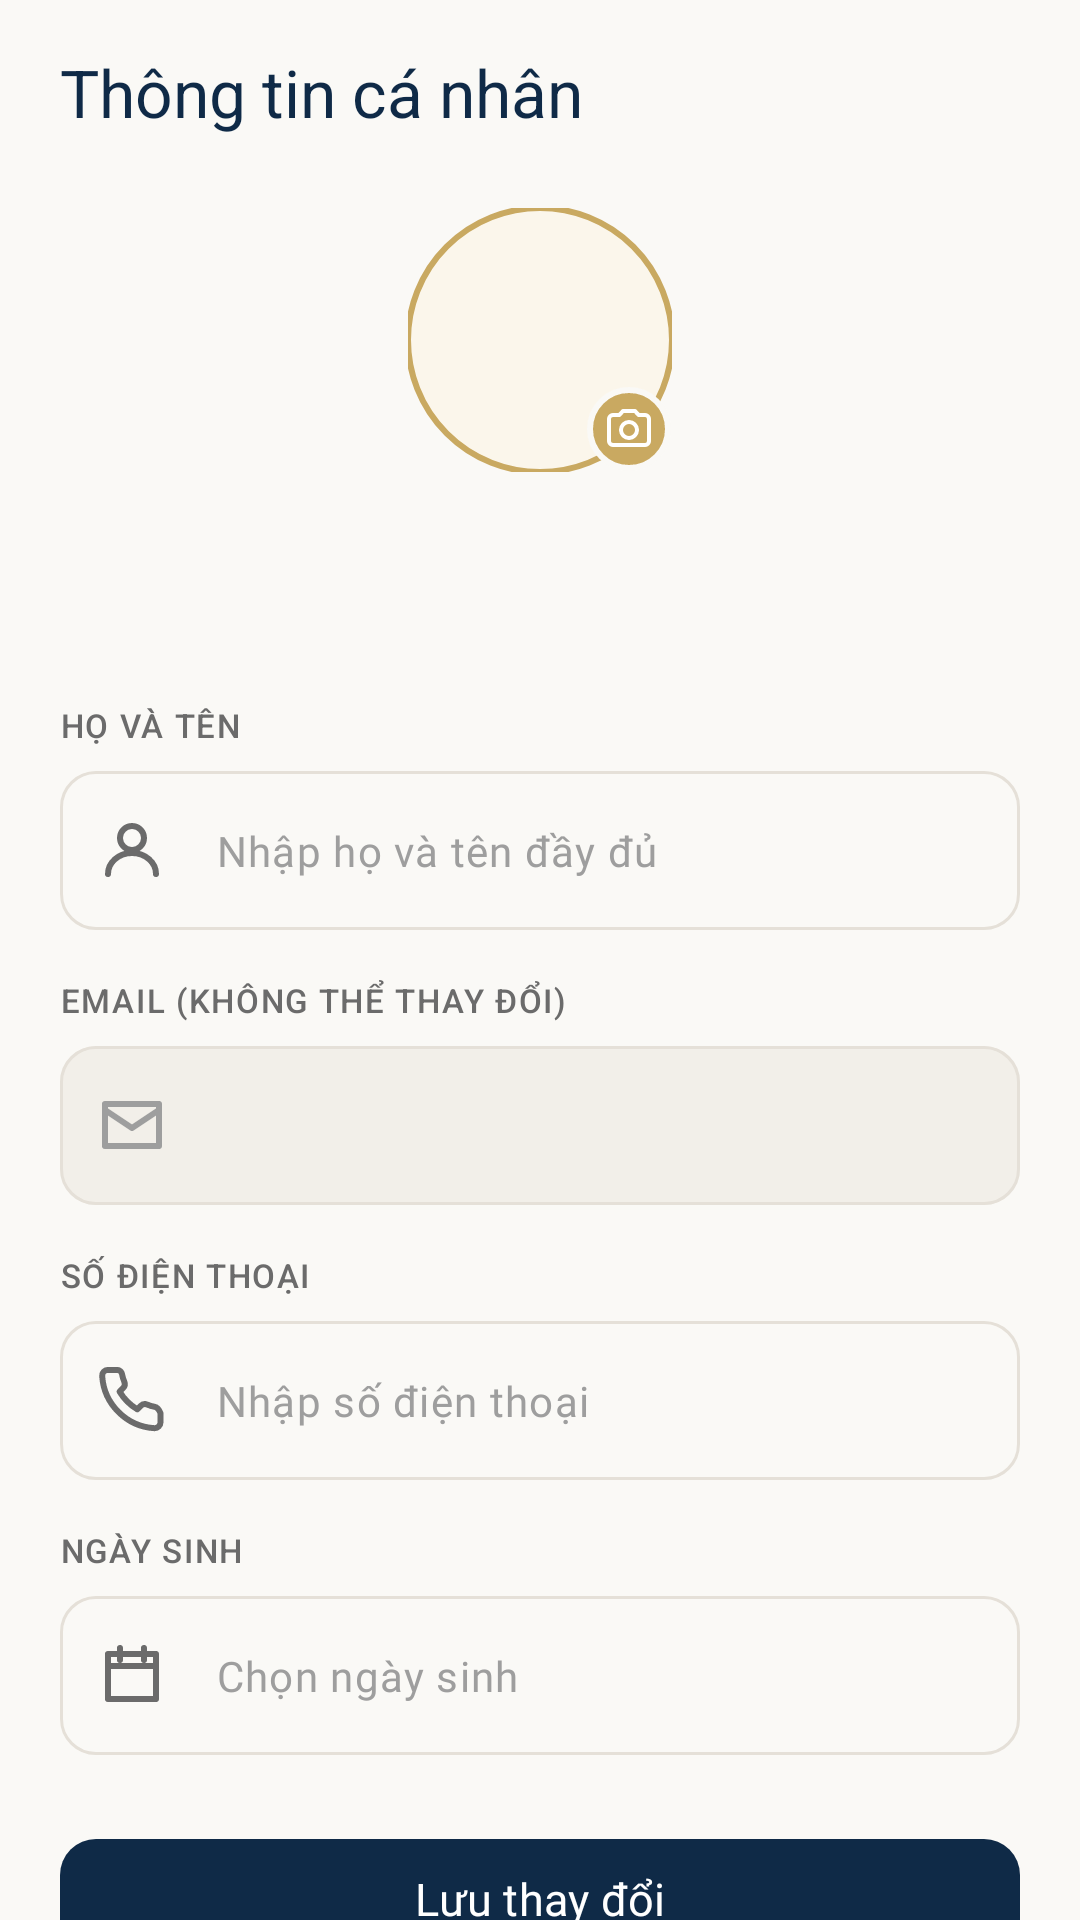

Icons on this 1080px×1920px Android screen, each with the point to tap as (x=x, y=y):
camera: (x=629, y=428)
